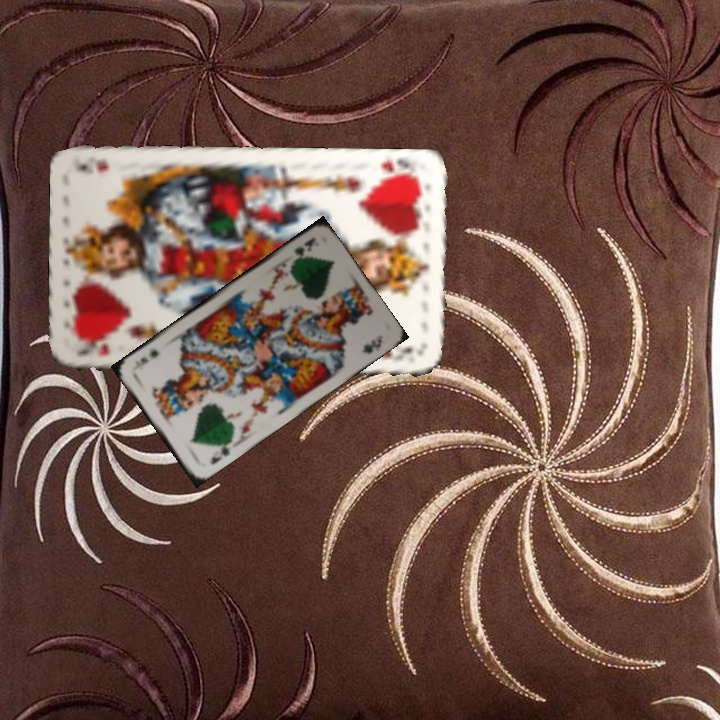GK: (287, 233, 318, 266), (206, 438, 233, 467)
HK: (376, 155, 423, 183), (76, 338, 112, 360)
